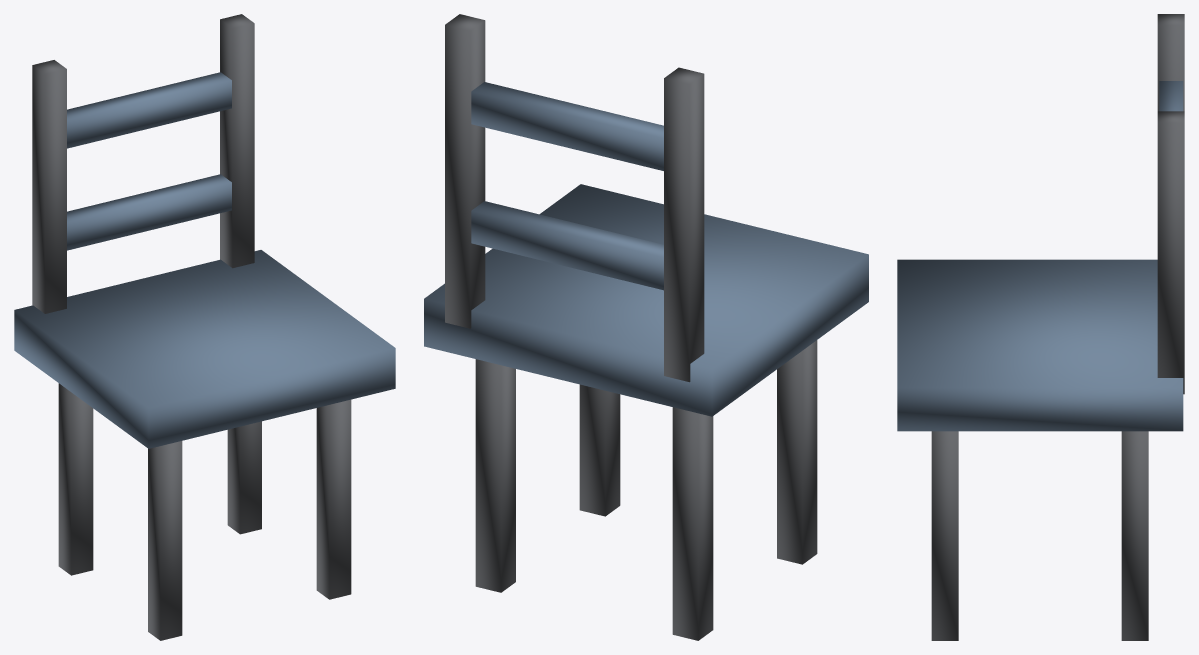
The model's file is jury_chair.glb.
The picture shows the model from 3 angles, left to right: view 1: azimuth 30°, elevation 25°; view 2: azimuth 150°, elevation 25°; view 3: azimuth 270°, elevation 25°; orthographic projection. The views are drawn at different scales.
Visible parts, largest first — view 1: world; view 2: world; view 3: world.
Part boxes in pixels (x1,y1,x2,y2): world: (14,14,395,640); world: (424,14,868,640); world: (897,14,1184,640).
Bounding box in the file's own units: 0.5065 × 0.9631 × 0.4796.
